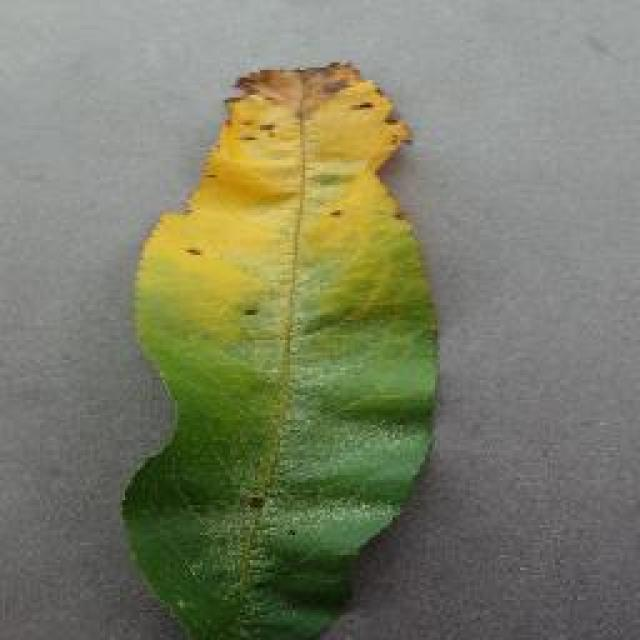Bacterial_spot: (156, 54, 437, 340)
